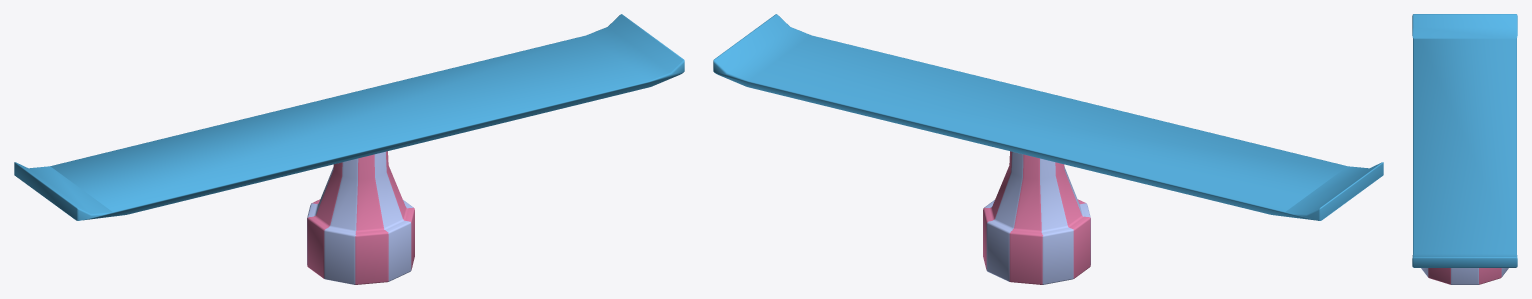
File: HPSpawningTable.fbx
The picture shows the model from 3 angles, left to right: view 1: azimuth 30°, elevation 25°; view 2: azimuth 150°, elevation 25°; view 3: azimuth 270°, elevation 25°; orthographic projection. The views are drawn at different scales.
Visible parts, largest first — view 1: Cylinder; view 2: Cylinder; view 3: Cylinder.
Boxes of the visible parts, x1,y1,x2,y2 form: Cylinder: (14, 14, 684, 284); Cylinder: (713, 14, 1383, 284); Cylinder: (1412, 14, 1517, 284).
Size of the model in its own units: 1270 by 308 by 232.
